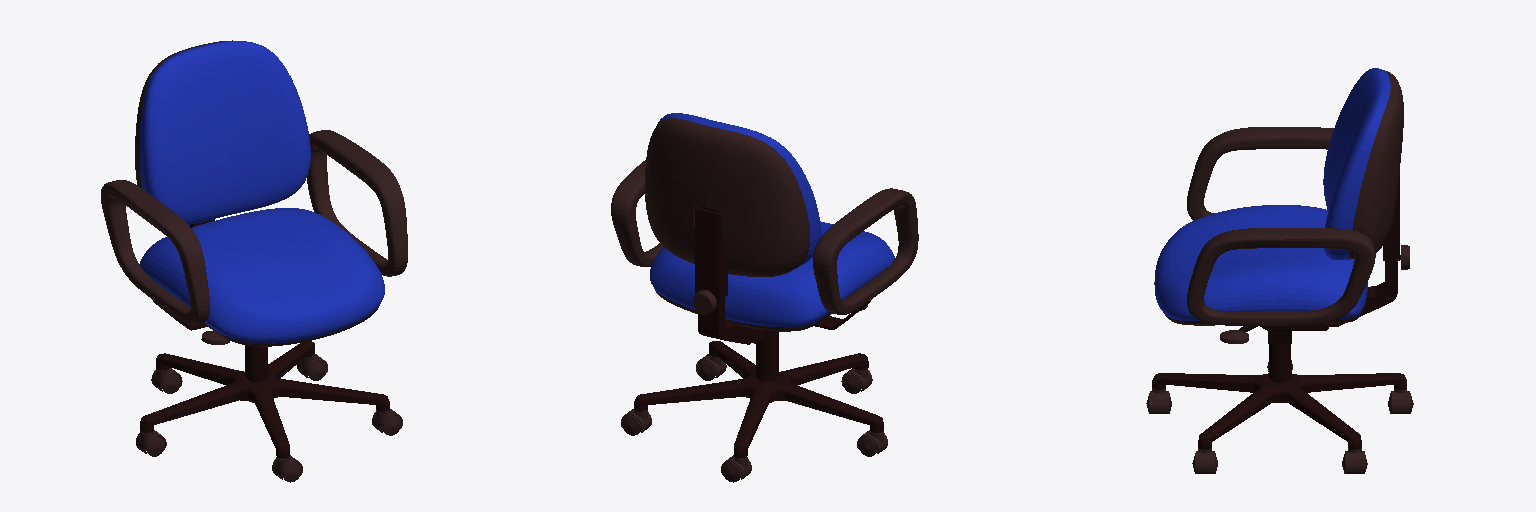
The model's file is chair.obj.
3 renders of one model, left to right at view 1: azimuth 30°, elevation 25°; view 2: azimuth 150°, elevation 25°; view 3: azimuth 270°, elevation 25°, orthographic.
Visible parts, largest first — view 1: Office_CH_back_Office_CH_back_Office_CH_fabric_2, Office_CH_seat_Office_CH_seat_Office_CH_fabric_12, Office_CH_arms_Office_CH_arms_Office_CH_plastic_1, Office_CH_base_Office_CH_base_Office_CH_metal_5, Office_CH_wheels_Office_CH_wheels_Office_CH_plastic_14, Office_CH_post_Office_CH_post_Office_CH_metal_11, Office_CH_back_Office_CH_back_Office_CH_plastic_3; view 2: Office_CH_back_Office_CH_back_Office_CH_plastic_3, Office_CH_seat_Office_CH_seat_Office_CH_fabric_12, Office_CH_arms_Office_CH_arms_Office_CH_plastic_1, Office_CH_base_Office_CH_base_Office_CH_metal_5, Office_CH_back_post_Office_CH_back_post_Office_CH_metal_4, Office_CH_wheels_Office_CH_wheels_Office_CH_plastic_14, Office_CH_back_Office_CH_back_Office_CH_fabric_2, Office_CH_post_Office_CH_post_Office_CH_metal_11; view 3: Office_CH_seat_Office_CH_seat_Office_CH_fabric_12, Office_CH_arms_Office_CH_arms_Office_CH_plastic_1, Office_CH_base_Office_CH_base_Office_CH_metal_5, Office_CH_back_Office_CH_back_Office_CH_fabric_2, Office_CH_back_Office_CH_back_Office_CH_plastic_3, Office_CH_wheels_Office_CH_wheels_Office_CH_plastic_14, Office_CH_back_post_Office_CH_back_post_Office_CH_metal_4, Office_CH_post_Office_CH_post_Office_CH_metal_11, Office_CH_mount_Office_CH_mount_Office_CH_metal_9, Office_CH_knobs_Office_CH_knobs_Office_CH_plastic_6.
Boxes of the visible parts, x1=… form: Office_CH_back_Office_CH_back_Office_CH_fabric_2: x1=139, y1=41, x2=310, y2=224; Office_CH_seat_Office_CH_seat_Office_CH_fabric_12: x1=139, y1=208, x2=384, y2=343; Office_CH_arms_Office_CH_arms_Office_CH_plastic_1: x1=101, y1=130, x2=407, y2=324; Office_CH_base_Office_CH_base_Office_CH_metal_5: x1=140, y1=341, x2=389, y2=458; Office_CH_wheels_Office_CH_wheels_Office_CH_plastic_14: x1=136, y1=354, x2=402, y2=482; Office_CH_post_Office_CH_post_Office_CH_metal_11: x1=245, y1=345, x2=267, y2=381; Office_CH_back_Office_CH_back_Office_CH_plastic_3: x1=135, y1=40, x2=232, y2=187; Office_CH_back_Office_CH_back_Office_CH_plastic_3: x1=645, y1=118, x2=809, y2=276; Office_CH_seat_Office_CH_seat_Office_CH_fabric_12: x1=650, y1=221, x2=894, y2=327; Office_CH_arms_Office_CH_arms_Office_CH_plastic_1: x1=611, y1=160, x2=918, y2=314; Office_CH_base_Office_CH_base_Office_CH_metal_5: x1=634, y1=341, x2=883, y2=457; Office_CH_back_post_Office_CH_back_post_Office_CH_metal_4: x1=695, y1=206, x2=754, y2=344; Office_CH_wheels_Office_CH_wheels_Office_CH_plastic_14: x1=621, y1=354, x2=887, y2=482; Office_CH_back_Office_CH_back_Office_CH_fabric_2: x1=657, y1=113, x2=820, y2=265; Office_CH_post_Office_CH_post_Office_CH_metal_11: x1=756, y1=331, x2=778, y2=381; Office_CH_seat_Office_CH_seat_Office_CH_fabric_12: x1=1154, y1=205, x2=1367, y2=320; Office_CH_arms_Office_CH_arms_Office_CH_plastic_1: x1=1187, y1=127, x2=1375, y2=325; Office_CH_base_Office_CH_base_Office_CH_metal_5: x1=1152, y1=373, x2=1406, y2=449; Office_CH_back_Office_CH_back_Office_CH_fabric_2: x1=1323, y1=68, x2=1390, y2=259; Office_CH_back_Office_CH_back_Office_CH_plastic_3: x1=1350, y1=70, x2=1403, y2=258; Office_CH_wheels_Office_CH_wheels_Office_CH_plastic_14: x1=1146, y1=360, x2=1413, y2=473; Office_CH_back_post_Office_CH_back_post_Office_CH_metal_4: x1=1329, y1=171, x2=1399, y2=326; Office_CH_post_Office_CH_post_Office_CH_metal_11: x1=1269, y1=344, x2=1290, y2=402; Office_CH_mount_Office_CH_mount_Office_CH_metal_9: x1=1260, y1=324, x2=1328, y2=343; Office_CH_knobs_Office_CH_knobs_Office_CH_plastic_6: x1=1220, y1=245, x2=1409, y2=343.
Bounding box in the file's own units: 64.3 × 91 × 64.3.